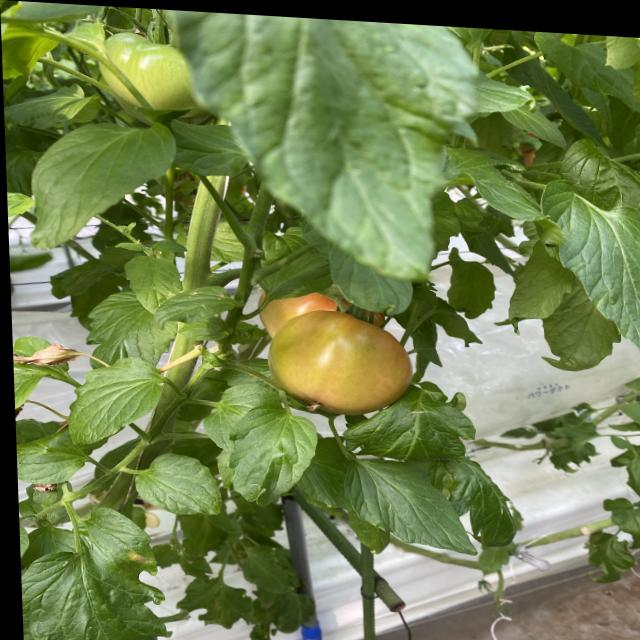sari: (257, 254, 383, 394)
